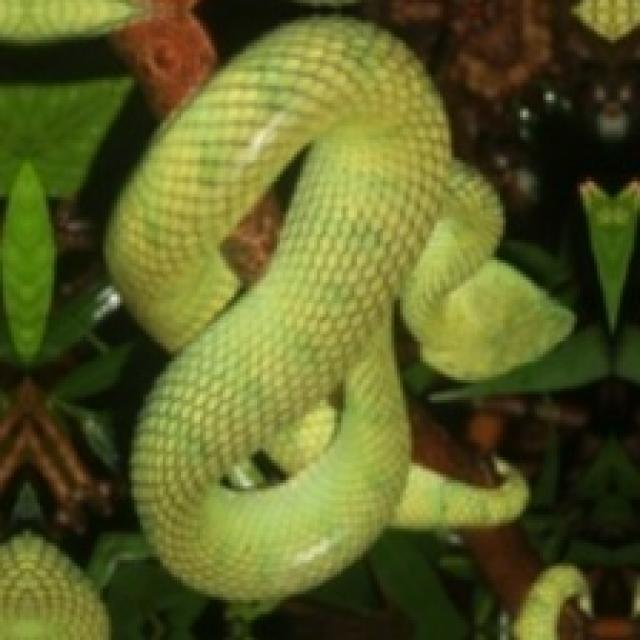north ph temple pitviper: (106, 17, 571, 600)
